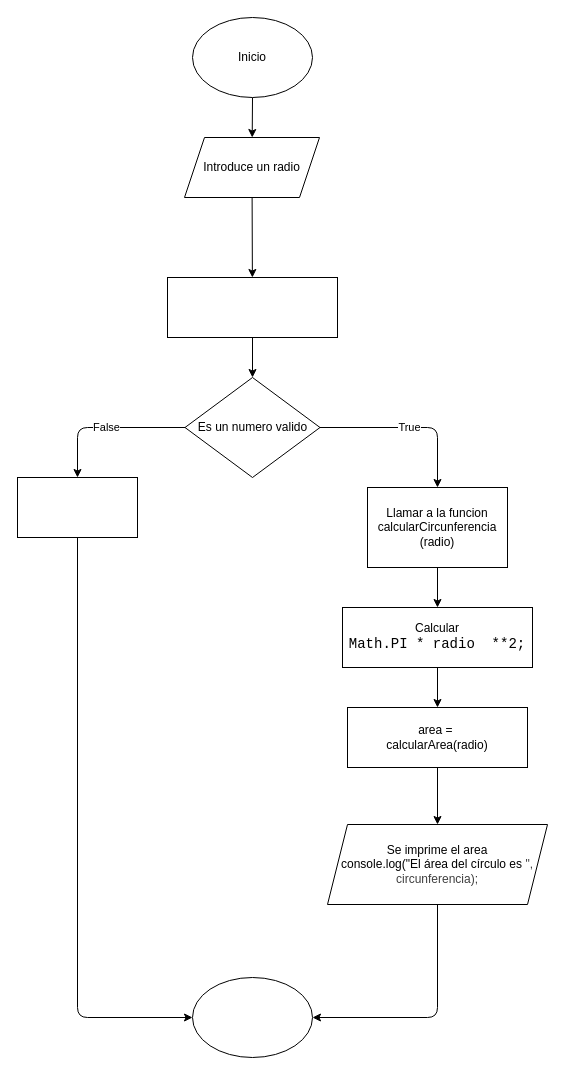
Image size: 565x1075. Some labels were removed from this diagram. Each missing label, with the centre of its shape:
"Error Es NaN" belongs at (77,507).
"Fin" belongs at (252,1017).
"Se convierte en numero en un numero redondo num = parseInt" belongs at (252,307).
